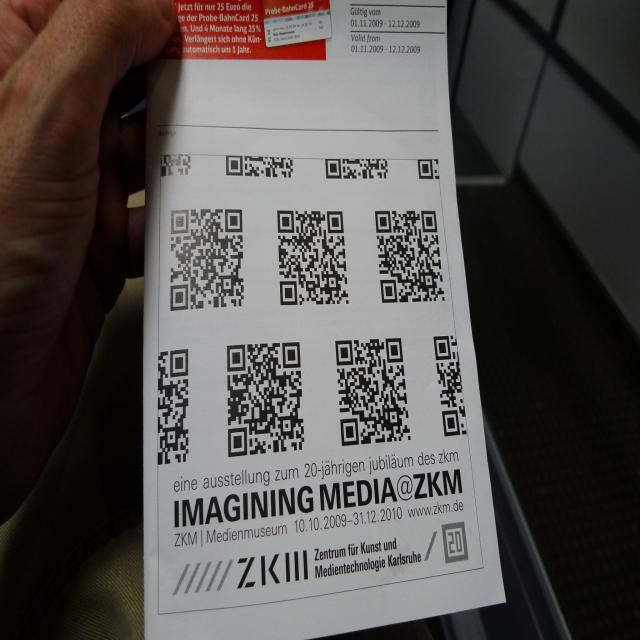qr_code: (227, 342, 305, 457), (336, 338, 410, 446), (170, 209, 244, 311), (278, 210, 348, 305), (374, 210, 444, 302), (158, 348, 188, 464), (433, 335, 467, 436), (226, 155, 293, 178), (325, 158, 388, 178), (417, 159, 439, 179)
